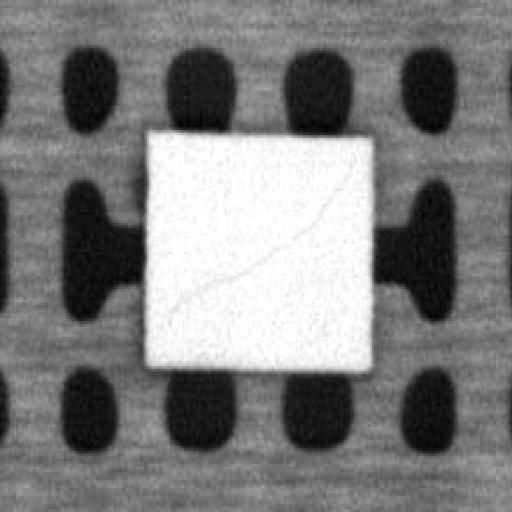DIE_CRACK: (172, 148, 356, 302)
